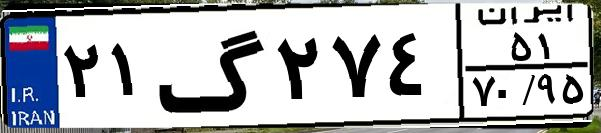0: (495, 70, 520, 125)
1: (110, 28, 156, 98), (537, 27, 568, 80)
2: (270, 28, 330, 110), (57, 26, 110, 100)
4: (385, 28, 445, 110)
5: (560, 70, 590, 125), (508, 27, 537, 80)
7: (330, 28, 385, 110), (470, 70, 495, 125)
9: (535, 70, 560, 125)
گ: (156, 12, 270, 120)
